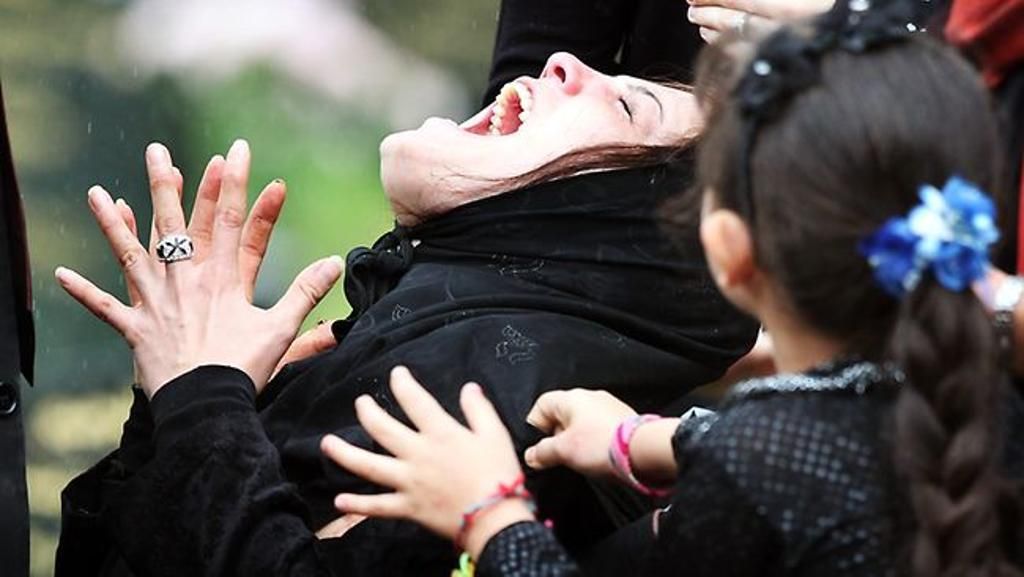face: (381, 49, 729, 223)
